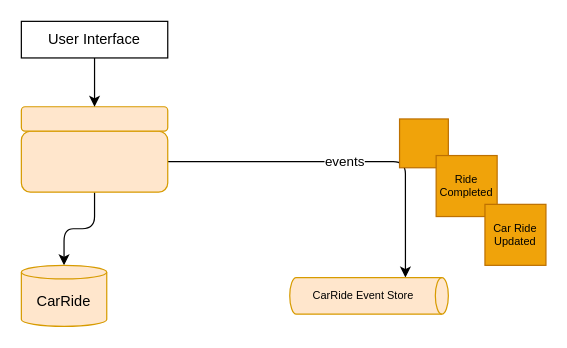
Some shapes in this 567 by 348 pixel diagram are drawn without their labels. Each missing label, with the centre of its shape:
CarRide Created: (423,143)
CarRide CRUD APIs: (94,118)
CarRide Manager Command: (94,161)
